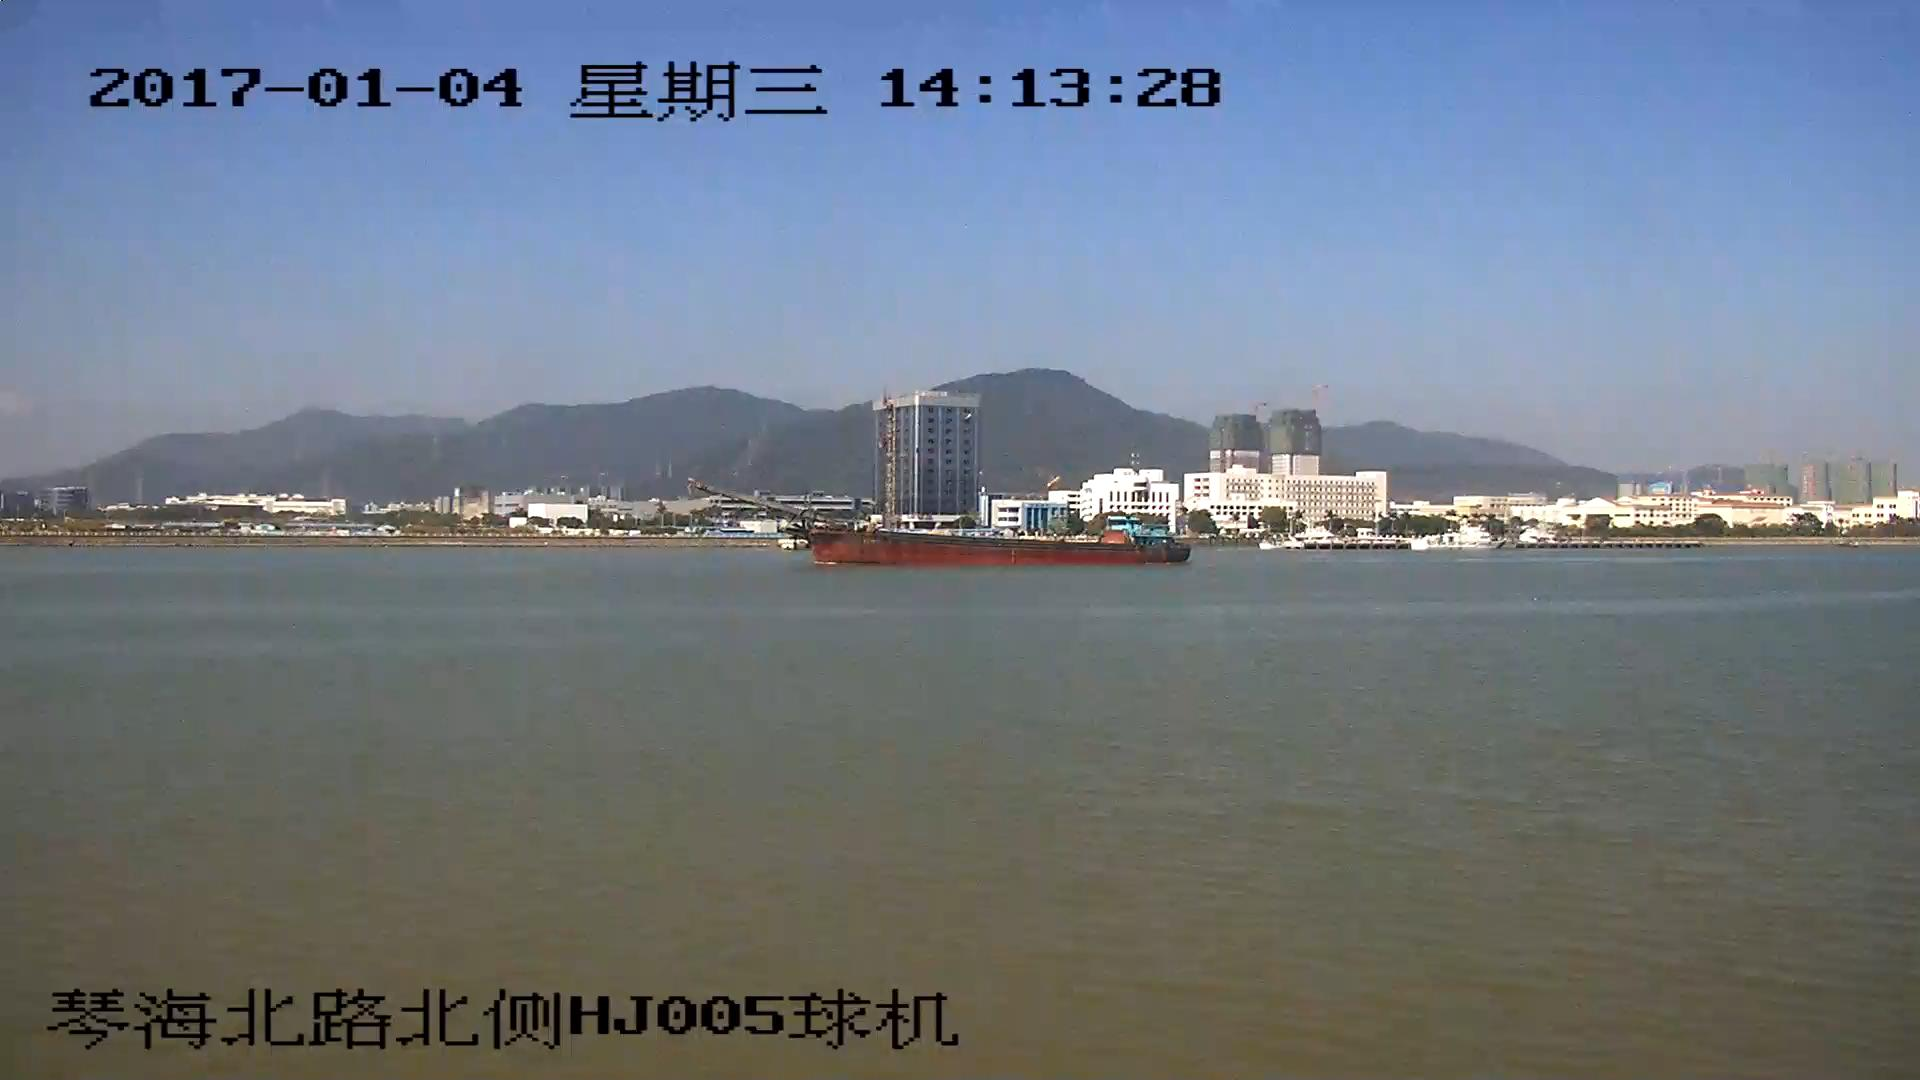bulk cargo carrier: (701, 480, 1187, 567)
